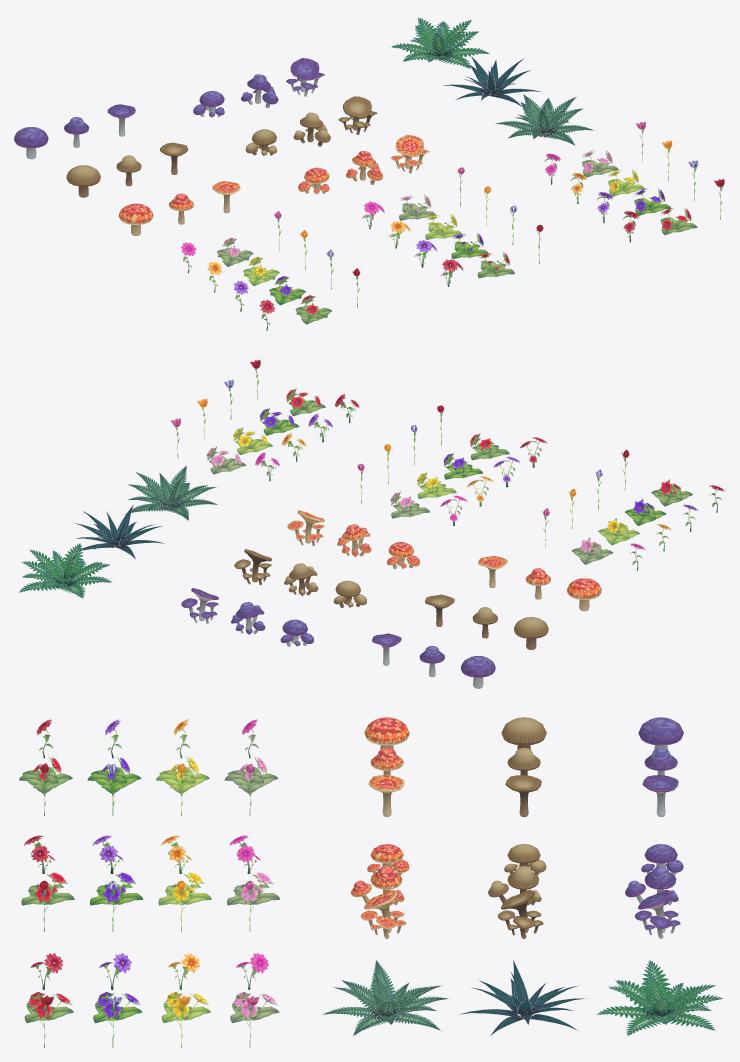
Rendered from stylized_foliage.glb.
The picture shows the model from 3 angles, top to bottom: view 1: azimuth 30°, elevation 25°; view 2: azimuth 150°, elevation 25°; view 3: azimuth 270°, elevation 25°; orthographic projection. The views are drawn at different scales.
Visible parts, largest first — view 1: Fern_01.002, Fern_01, Fern_01.001, Circle.606, Circle.611, Circle.605, Mushroom_01_Base.001, Mushroom_01_Base.002, Mushroom_01_Base, Circle.609, Circle.608, Circle.597 (+15 smaller); view 2: Fern_01.002, Fern_01, Fern_01.001, Mushroom_01_Base, Mushroom_01_Base.002, Mushroom_01_Base.001, Circle.605, Circle.606, Circle.597, Circle.611, Circle.608, Circle.609 (+15 smaller); view 3: Fern_01.002, Fern_01, Fern_01.001, Circle.611, Circle.606, Circle.605, Mushroom_01_Base.001, Mushroom_01_Base, Mushroom_01_Base.002, Circle.608, Circle.609, Circle.597 (+21 smaller).
Part boxes in pixels (bbox=[...]): Fern_01.002: bbox=[391, 17, 489, 68]; Fern_01: bbox=[496, 94, 596, 145]; Fern_01.001: bbox=[444, 56, 540, 106]; Circle.606: bbox=[338, 96, 377, 134]; Circle.611: bbox=[286, 58, 324, 96]; Circle.605: bbox=[391, 134, 429, 173]; Mushroom_01_Base.001: bbox=[66, 165, 100, 197]; Mushroom_01_Base.002: bbox=[14, 127, 48, 159]; Mushroom_01_Base: bbox=[118, 203, 153, 236]; Circle.609: bbox=[241, 74, 278, 108]; Circle.608: bbox=[293, 112, 330, 146]; Circle.597: bbox=[346, 151, 383, 184]; Fern_01.002: bbox=[19, 543, 111, 598]; Fern_01: bbox=[125, 466, 217, 520]; Fern_01.001: bbox=[75, 504, 163, 559]; Mushroom_01_Base: bbox=[567, 578, 601, 611]; Mushroom_01_Base.002: bbox=[460, 656, 495, 688]; Mushroom_01_Base.001: bbox=[514, 617, 548, 649]; Circle.605: bbox=[287, 510, 324, 546]; Circle.606: bbox=[234, 549, 271, 585]; Circle.597: bbox=[337, 524, 371, 557]; Circle.611: bbox=[181, 588, 218, 623]; Circle.608: bbox=[284, 563, 318, 596]; Circle.609: bbox=[231, 602, 265, 634]; Fern_01.002: bbox=[596, 960, 722, 1035]; Fern_01: bbox=[322, 960, 448, 1035]; Fern_01.001: bbox=[459, 960, 584, 1035]; Circle.611: bbox=[634, 890, 680, 938]; Circle.606: bbox=[497, 890, 543, 938]; Circle.605: bbox=[360, 889, 406, 938]; Mushroom_01_Base.001: bbox=[501, 717, 546, 749]; Mushroom_01_Base: bbox=[364, 717, 409, 749]; Mushroom_01_Base.002: bbox=[638, 717, 683, 749]; Circle.608: bbox=[488, 866, 541, 905]; Circle.609: bbox=[625, 866, 678, 905]; Circle.597: bbox=[351, 866, 404, 905].
Bounding box in the file's own units: 1046 × 85.03 × 1039.
Materials: 10 (10 with a texture image).
